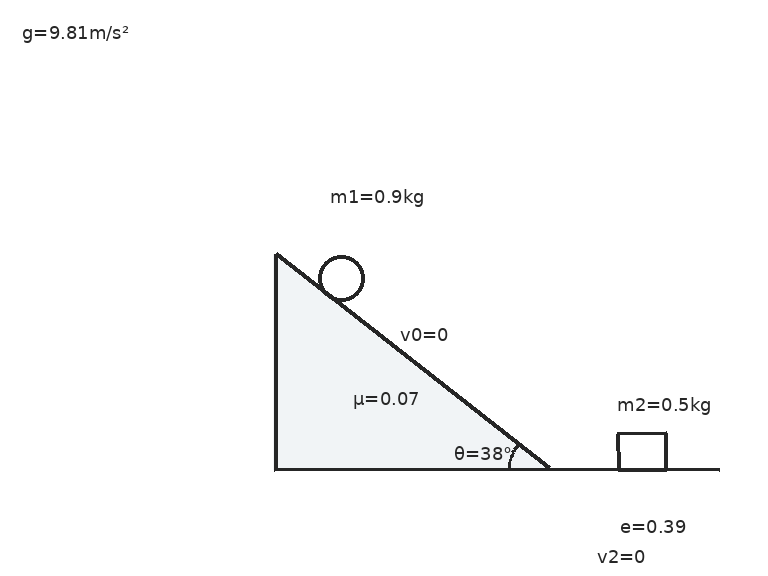ball: (316, 253, 366, 303)
block: (616, 431, 668, 471)
ramp: (272, 252, 551, 471)
